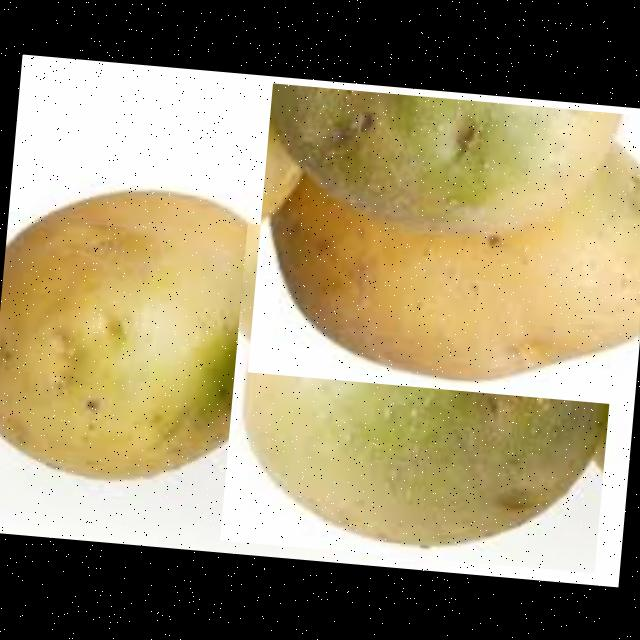Defected potato: (219, 223, 622, 573), (247, 82, 640, 405), (0, 165, 305, 501)
